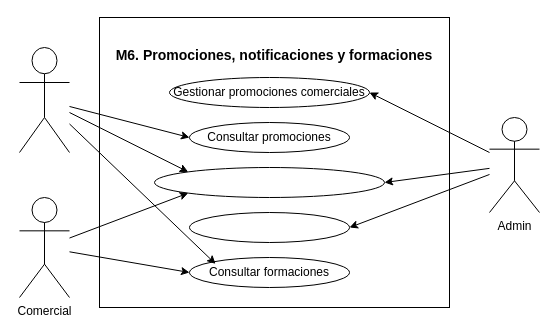
This 557x336 diagram has some shape labels left out. The shapes that lost their labels are listed below. From the top down, each one's box as (x1, y1, x2, y2) in pixels, then its label:
(18, 46, 70, 152): Cliente
(154, 166, 384, 198): Enviar notificaciones y recordatorios
(188, 212, 350, 242): Gestionar formaciones
